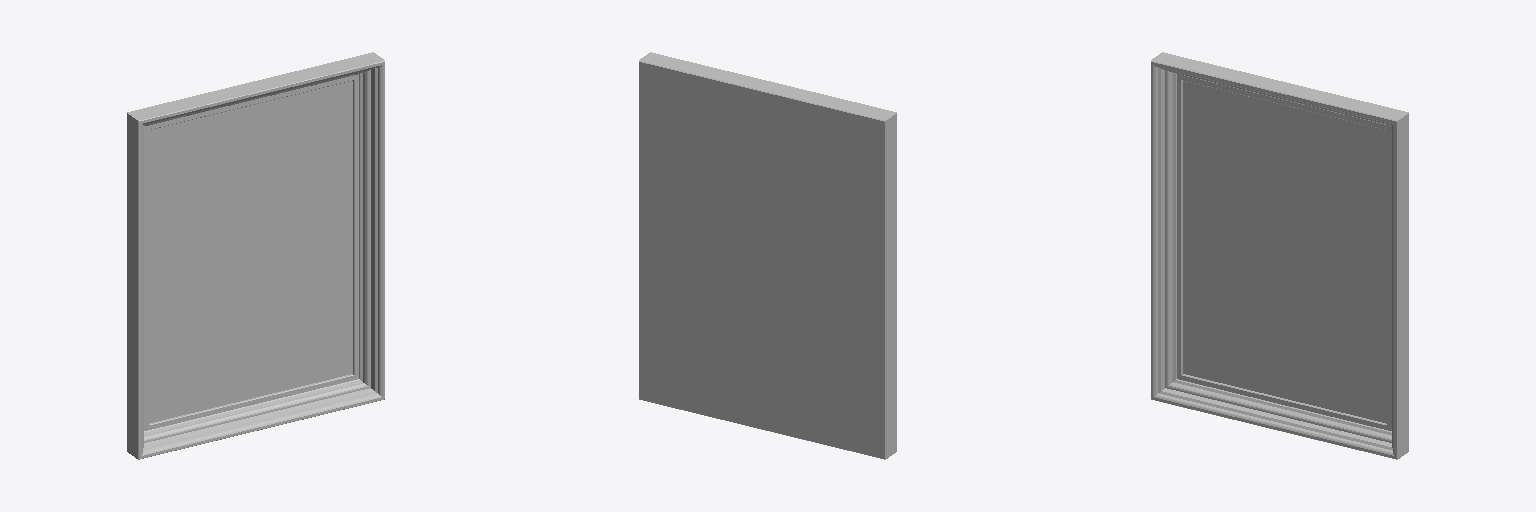
Rendered from painting.obj.
3 renders of one model, left to right at view 1: azimuth 30°, elevation 25°; view 2: azimuth 150°, elevation 25°; view 3: azimuth 330°, elevation 25°, orthographic.
Parts seen in each view (by area): view 1: Obraz; view 2: Obraz; view 3: Obraz.
Part boxes in pixels (x1,y1,x2,y2): Obraz: (127,52,384,459); Obraz: (639,52,896,459); Obraz: (1151,52,1408,459).
Bounding box in the file's own units: 0.8615 × 1.13 × 0.0742.